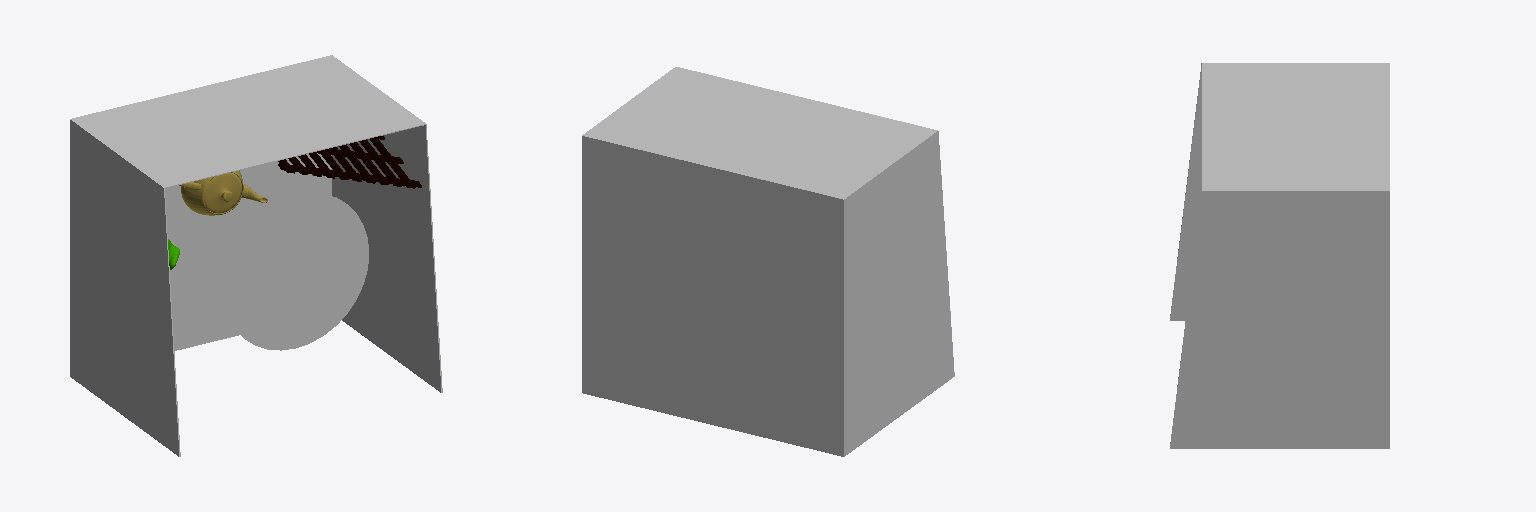
Rendered from aaaa.obj.
3 views of the same model, side by side, from view 1: azimuth 30°, elevation 25°; view 2: azimuth 150°, elevation 25°; view 3: azimuth 270°, elevation 25° (orthographic).
Parts seen in each view (by area): view 1: Cube, Light_Cone.001, trap, Teapot; view 2: Cube; view 3: Cube.
Part boxes in pixels (bbox=[...]): Cube: bbox=[70, 55, 442, 456]; Light_Cone.001: bbox=[222, 193, 368, 350]; trap: bbox=[278, 136, 421, 188]; Teapot: bbox=[179, 170, 267, 215]; Cube: bbox=[582, 67, 954, 456]; Cube: bbox=[1170, 63, 1389, 448].
Size of the model in its own units: 9.94 by 9.29 by 7.21.